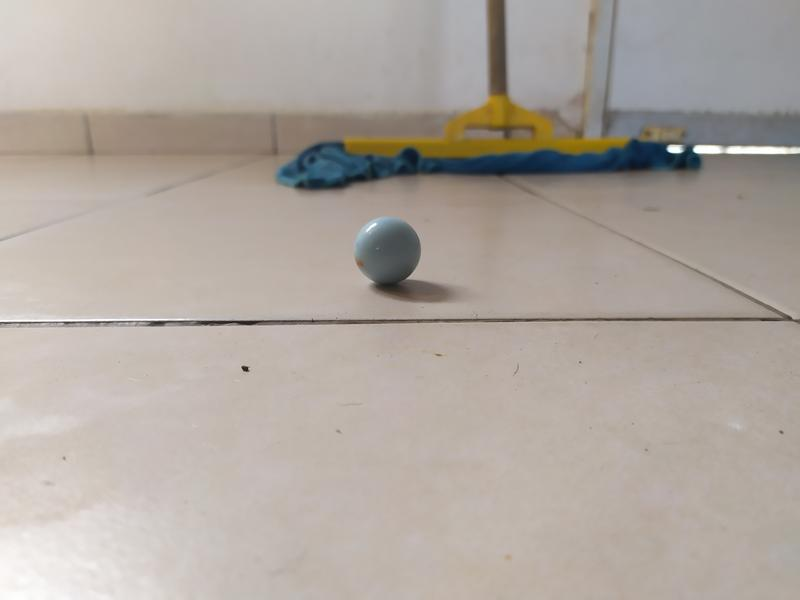Warning: (350, 213, 424, 287)
